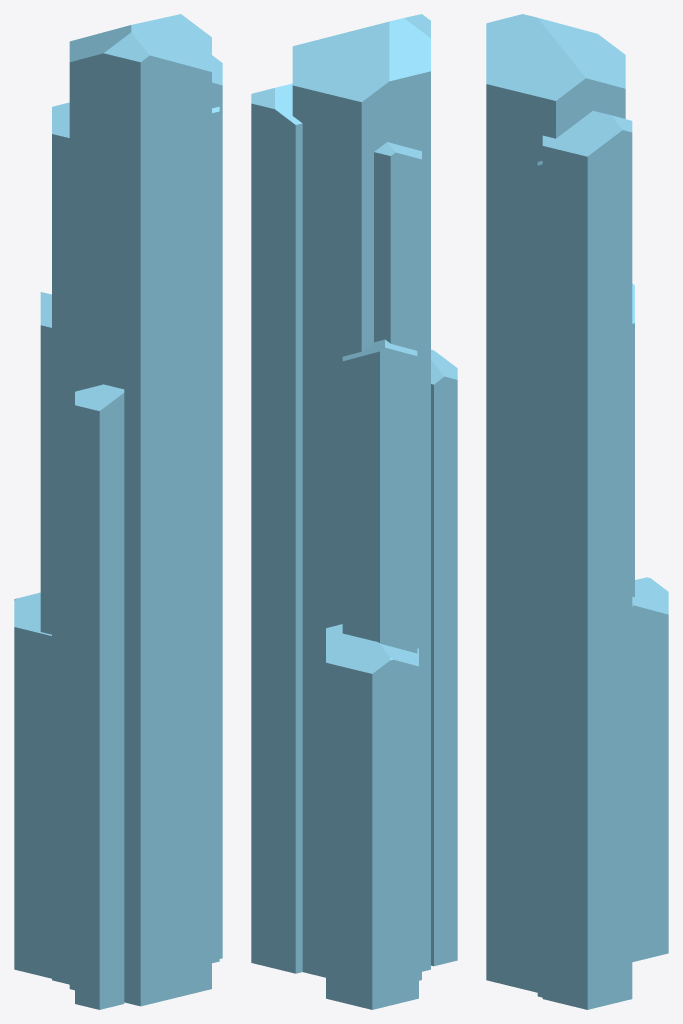
Rendered from Crystal_01.FBX.
3 views of the same model, side by side, from view 1: azimuth 30°, elevation 25°; view 2: azimuth 150°, elevation 25°; view 3: azimuth 270°, elevation 25° (orthographic). The views are drawn at different scales.
Visible parts, largest first — view 1: Crystal_01; view 2: Crystal_01; view 3: Crystal_01.
Boxes of the visible parts, left/top/right/bottom form: Crystal_01: left=14, top=14, right=222, bottom=1009; Crystal_01: left=251, top=14, right=457, bottom=1009; Crystal_01: left=486, top=14, right=668, bottom=1009.
Bounding box in the file's own units: 1.17 × 5.64 × 0.9958.
